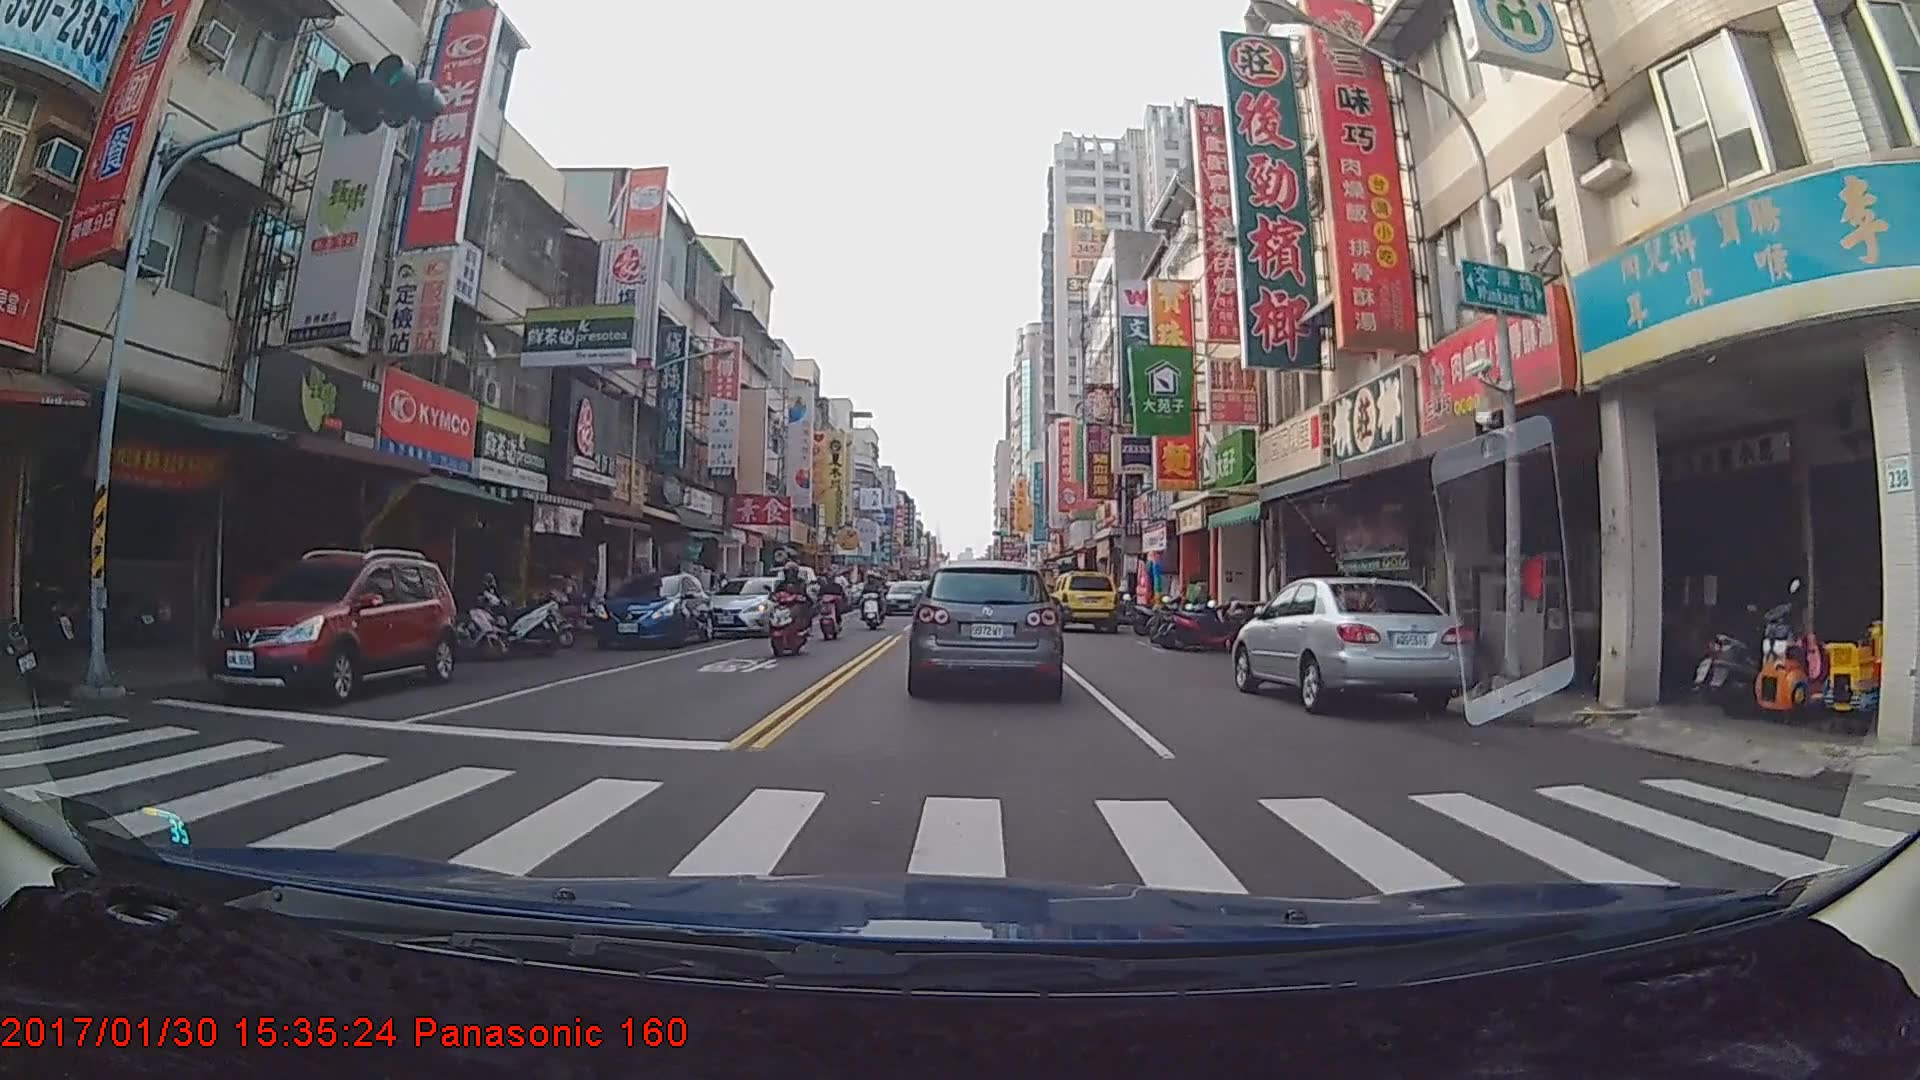rider: (765, 560, 815, 665), (814, 568, 847, 642), (861, 577, 887, 639)
vehicle: (197, 548, 455, 703), (1230, 573, 1471, 712), (912, 559, 1060, 697), (585, 573, 713, 651), (701, 576, 803, 636), (1048, 570, 1119, 630), (761, 564, 815, 618), (881, 578, 927, 614)
